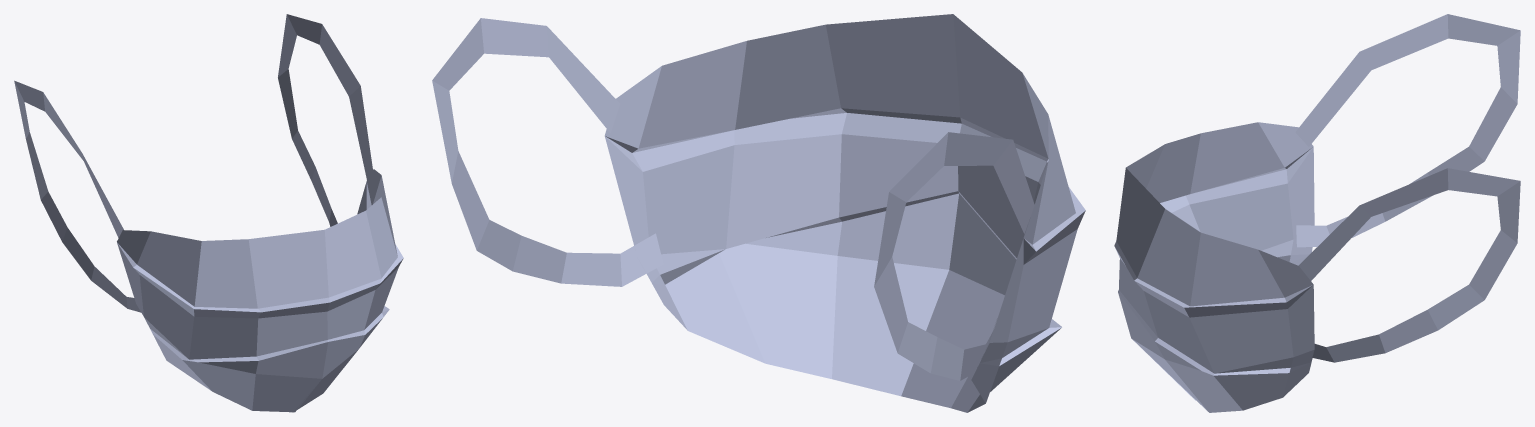
The model's file is Mask.fbx.
3 views of the same model, side by side, from view 1: azimuth 30°, elevation 25°; view 2: azimuth 150°, elevation 25°; view 3: azimuth 270°, elevation 25° (orthographic). The views are drawn at different scales.
Visible parts, largest first — view 1: Mask; view 2: Mask; view 3: Mask.
Boxes of the visible parts, box(x1,y1,x2,y2) form: Mask: box(14, 14, 403, 412); Mask: box(432, 14, 1085, 412); Mask: box(1114, 14, 1520, 412).
Size of the model in its own units: 14.96 by 14 by 16.68.
